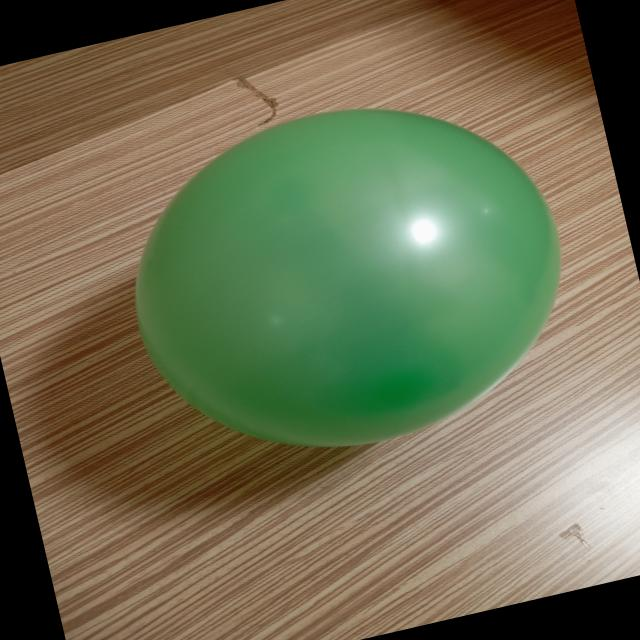balloon: (135, 108, 561, 446)
